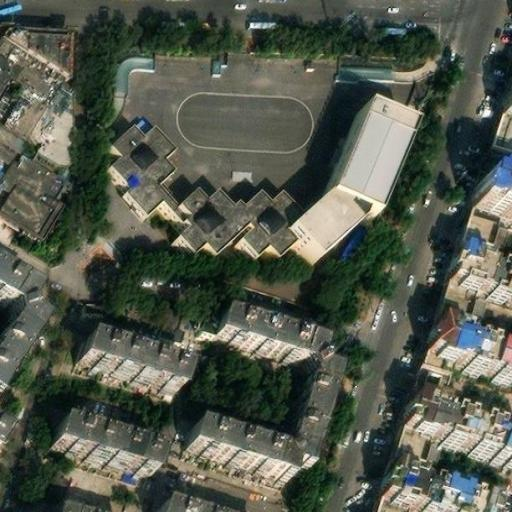building: (374, 200, 500, 512), (0, 17, 75, 231), (333, 83, 428, 202), (271, 335, 337, 472), (403, 390, 512, 458), (110, 108, 175, 209), (289, 178, 376, 252), (164, 176, 253, 247), (76, 332, 181, 390), (0, 262, 44, 394), (384, 464, 504, 512), (52, 420, 156, 473), (235, 179, 308, 249), (428, 319, 512, 379), (211, 308, 306, 359), (187, 417, 278, 470), (452, 249, 512, 302), (109, 49, 155, 101), (153, 491, 240, 512), (474, 165, 512, 211), (29, 491, 102, 512), (493, 107, 512, 142), (0, 407, 16, 440)
